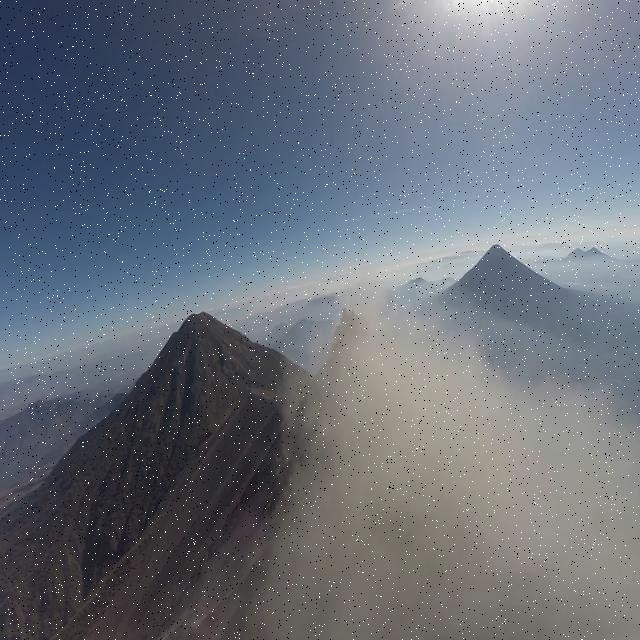Plume: (255, 275, 632, 638), (335, 300, 375, 349)
